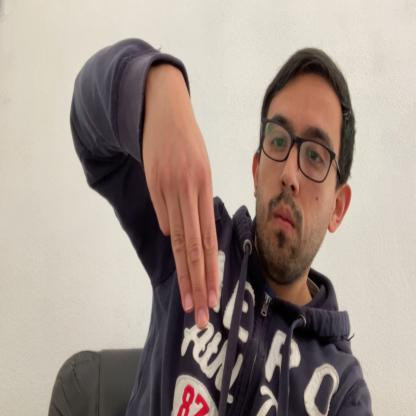M: (142, 81, 218, 329)
